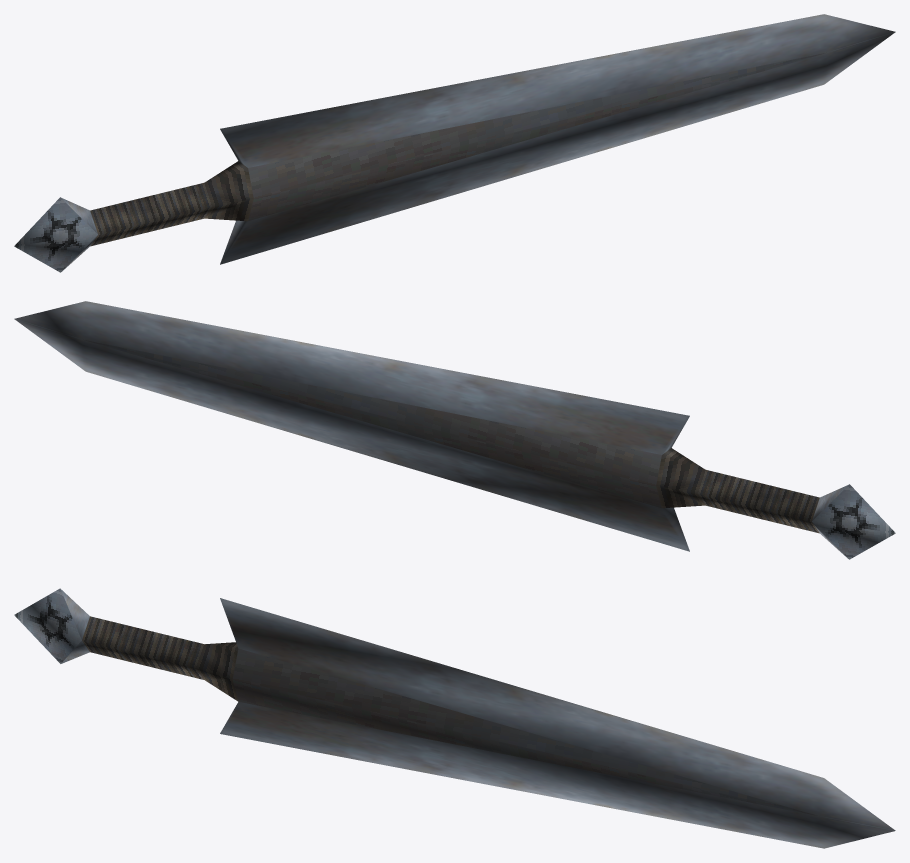
3 renders of one model, top to bottom at view 1: azimuth 30°, elevation 25°; view 2: azimuth 150°, elevation 25°; view 3: azimuth 330°, elevation 25°, orthographic.
Parts seen in each view (by area): view 1: it109; view 2: it109; view 3: it109.
Part boxes in pixels (x1,y1,x2,y2): it109: (14, 14, 895, 272); it109: (14, 301, 895, 559); it109: (14, 588, 895, 848).
Bounding box in the file's own units: 4.31 × 0.6353 × 0.1792.
4 materials, 4 textured.
